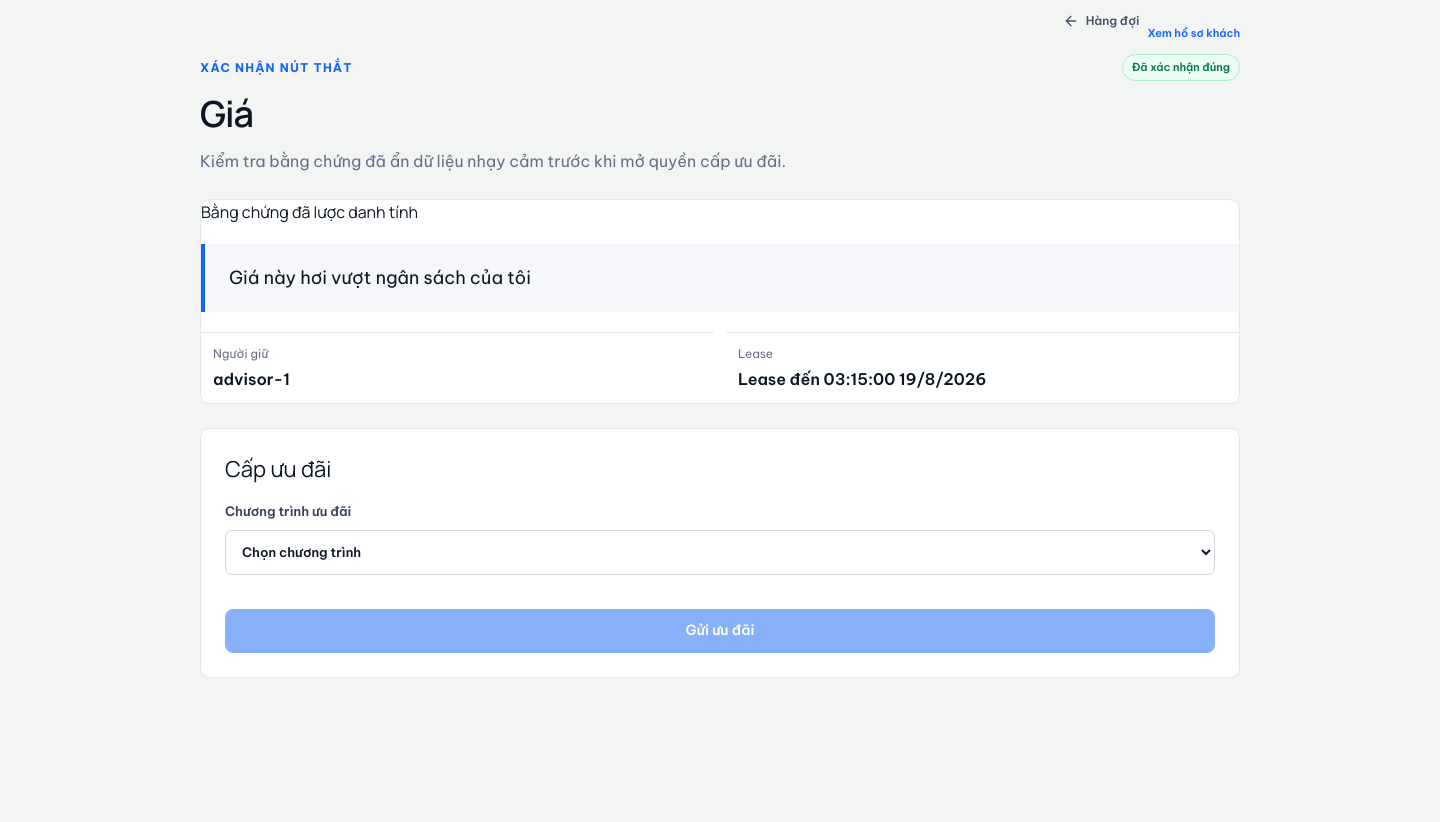
it: BottleneckSignalPanel › lỗi adjustment_out_of_bounds hiện tiếng Việt recoverable
Select "KM-01 · Giảm tiền mặt" in the dropdown labelled "Chương trình ưu đãi" at (720,552), box x1=225 y1=530 x2=1215 y2=575
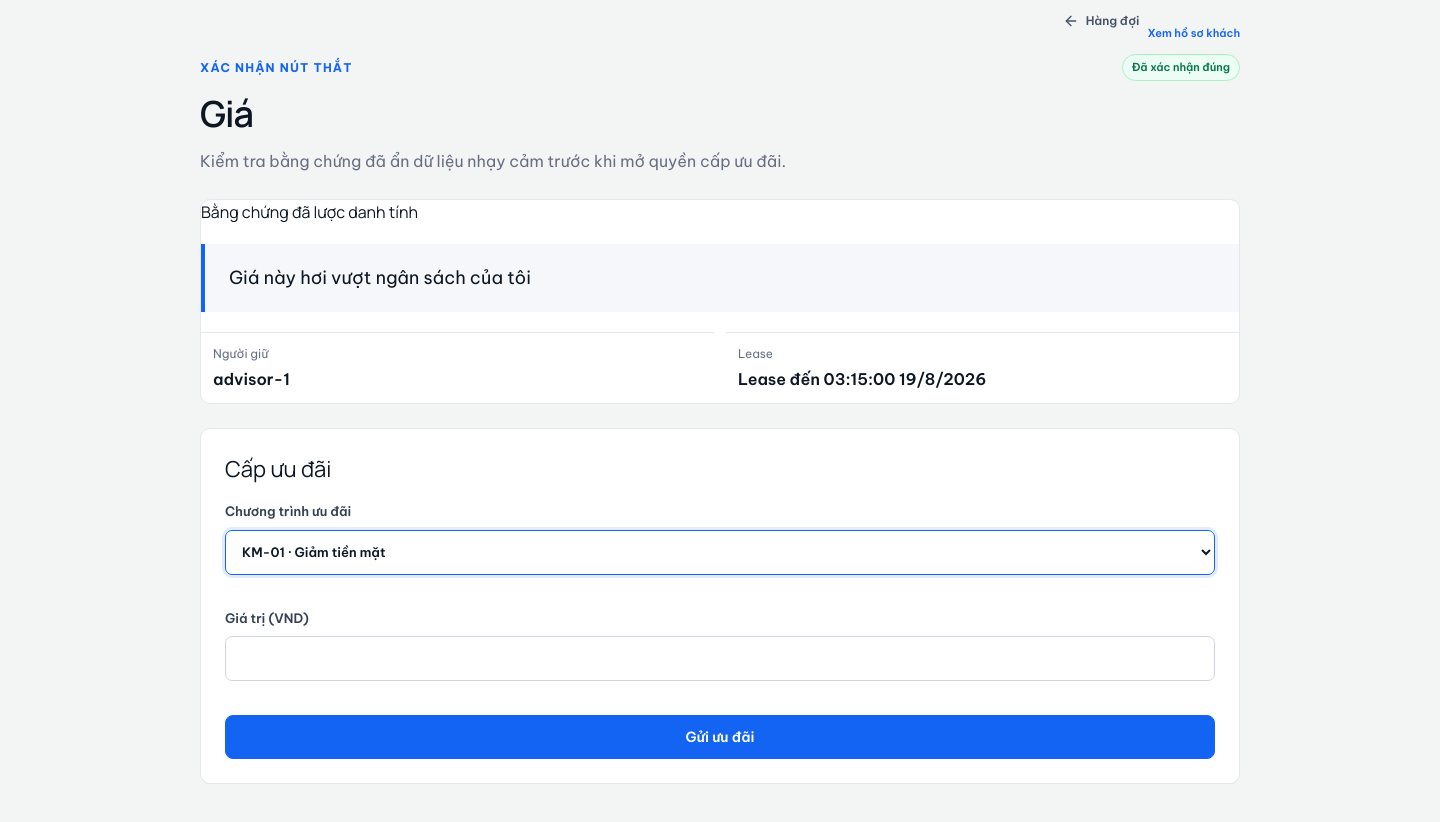
Type "3000000" into the number field labelled "Giá trị (VND)" at (720,659), box x1=225 y1=636 x2=1215 y2=681
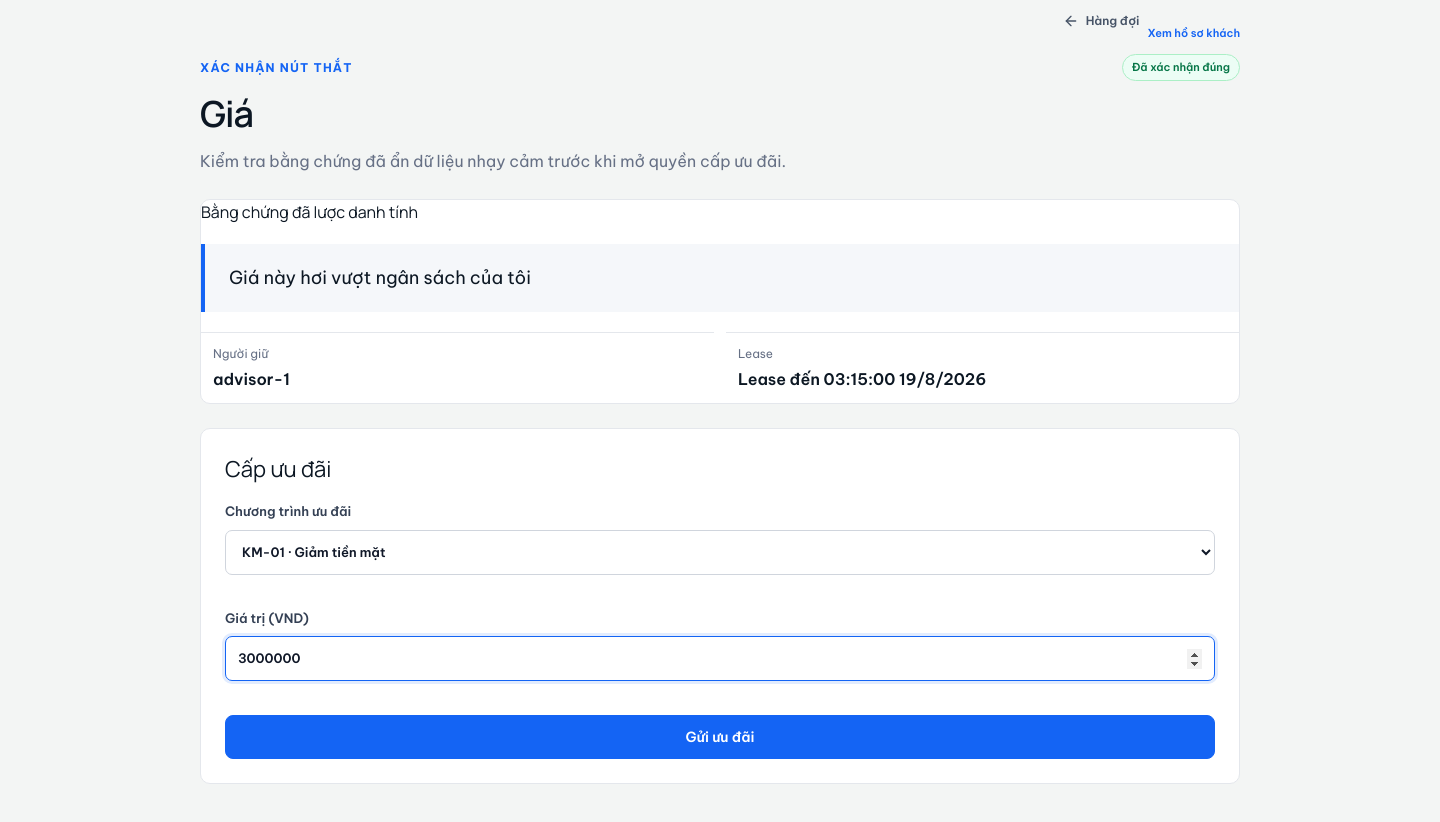
Click the button "Gửi ưu đãi" at (720,737), box x1=225 y1=715 x2=1215 y2=759
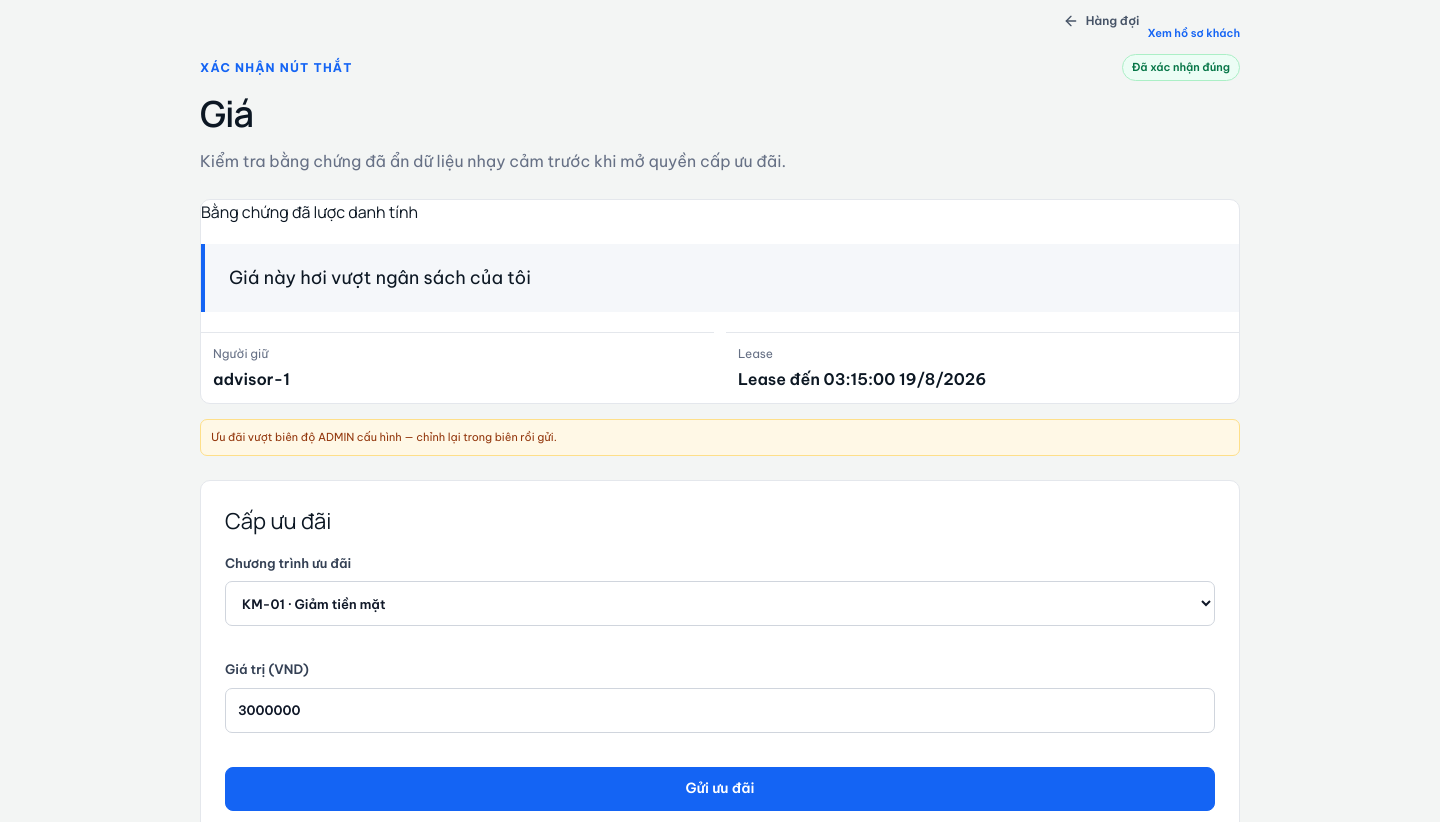
Result: the button "Gửi ưu đãi" is enabled at x1=225 y1=767 x2=1215 y2=811
Result: the text "Ưu đãi vượt biên độ ADMIN cấu hình — chỉnh lại trong biên rồi gửi." is shown at x1=200 y1=419 x2=1240 y2=456
